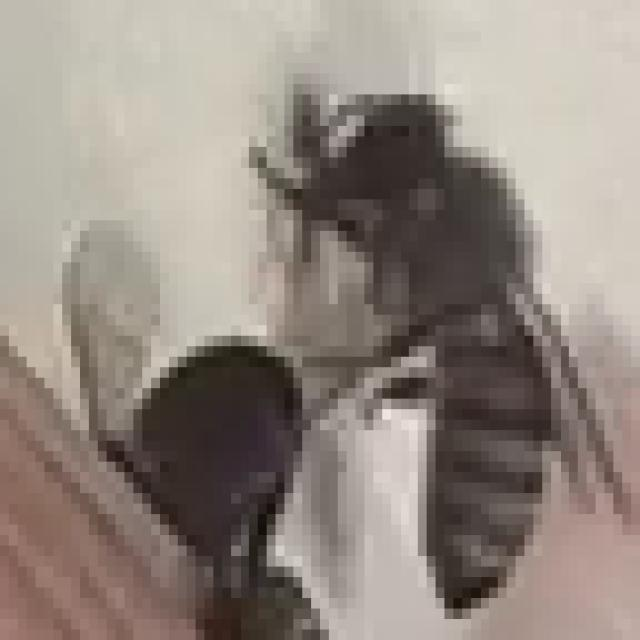honeybee: (251, 55, 640, 629), (29, 209, 300, 609)
